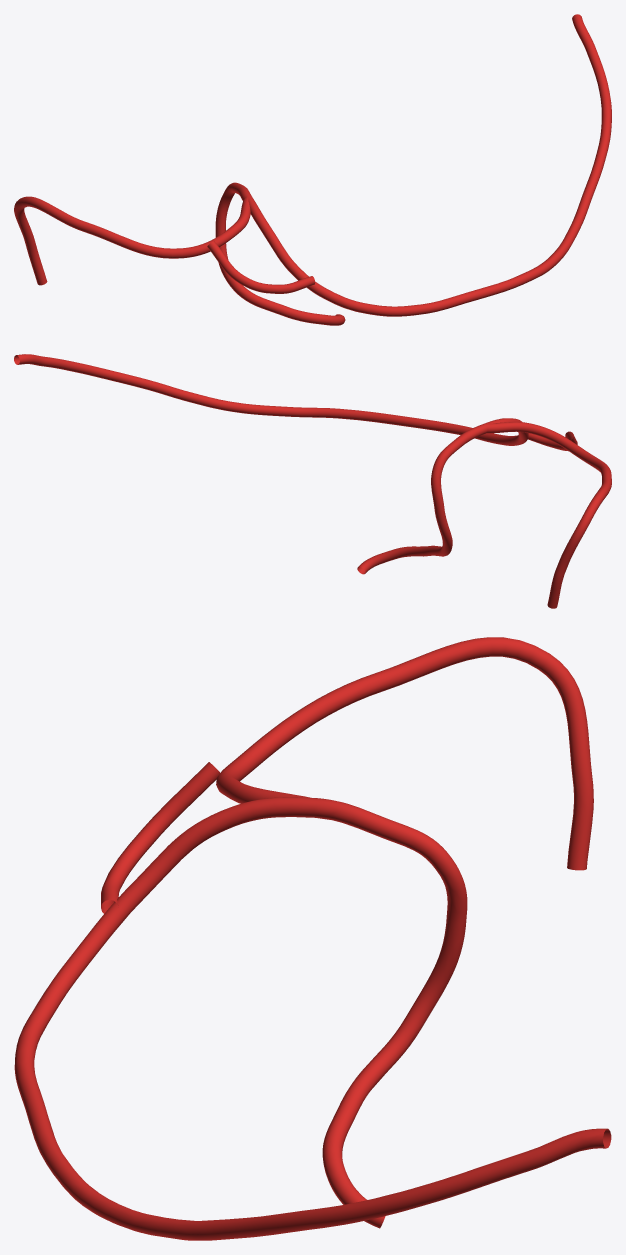
The model's file is circulatorio-anterior-inferior-pancreaticoduodenal-artery.glb.
The picture shows the model from 3 angles, top to bottom: view 1: azimuth 30°, elevation 25°; view 2: azimuth 150°, elevation 25°; view 3: azimuth 270°, elevation 25°; orthographic projection. The views are drawn at different scales.
Visible parts, largest first — view 1: Anterior inferior pancreaticoduodenal artery; view 2: Anterior inferior pancreaticoduodenal artery; view 3: Anterior inferior pancreaticoduodenal artery.
Part boxes in pixels (left/top/right/bottom): Anterior inferior pancreaticoduodenal artery: left=14, top=14, right=611, bottom=325; Anterior inferior pancreaticoduodenal artery: left=14, top=354, right=611, bottom=608; Anterior inferior pancreaticoduodenal artery: left=14, top=637, right=611, bottom=1240.
Size of the model in its own units: 0.1306 by 0.042 by 0.0598.
